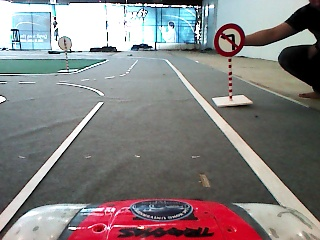ban: (212, 22, 247, 56)
